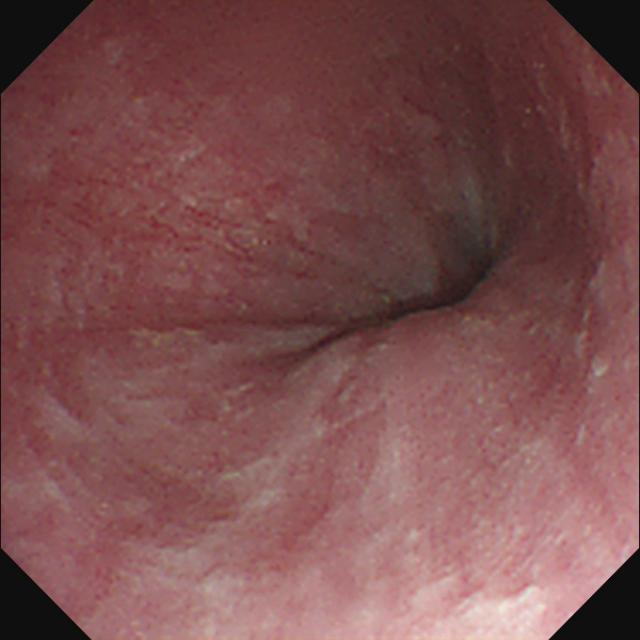A: (150, 164, 303, 273)
E: (397, 250, 504, 326)
